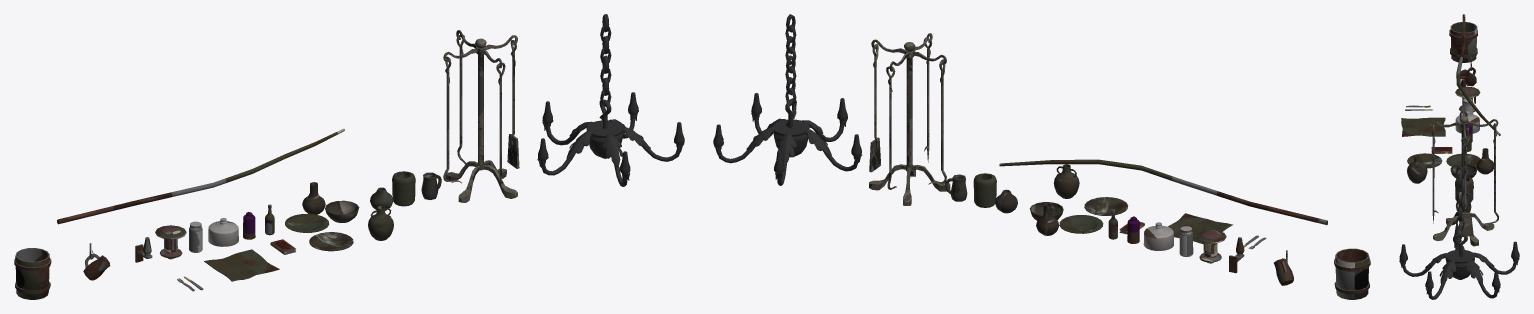
Rendered from utensilios.glb.
3 views of the same model, side by side, from view 1: azimuth 30°, elevation 25°; view 2: azimuth 150°, elevation 25°; view 3: azimuth 270°, elevation 25° (orthographic). The views are drawn at different scales.
Parts seen in each view (by area): view 1: Chandelier, pCylinder162, pCylinder144, pCube748, pCube747, pCylinder136, polySurface64, pCylinder137, pCylinder132, pCylinder85, pCylinder139, pCylinder133 (+3 smaller); view 2: Chandelier, pCylinder162, pCube748, pCylinder144, pCube747, pCylinder136, polySurface64, pCylinder85, pCylinder132, pCylinder139, pCylinder137, pCylinder135 (+1 smaller); view 3: Chandelier, pCylinder162, pCylinder144, pCube747, pCube748, pCylinder139, pCylinder137, pCylinder135, pCylinder132, pCube746, polySurface64, pCylinder85 (+6 smaller).
Part boxes in pixels (left/top/right/bottom): Chandelier: left=537, top=14, right=684, bottom=186; pCylinder162: left=443, top=30, right=519, bottom=202; pCylinder144: left=14, top=248, right=51, bottom=299; pCube748: left=57, top=128, right=344, bottom=224; pCube747: left=204, top=249, right=279, bottom=281; pCylinder136: left=392, top=171, right=415, bottom=206; polySurface64: left=208, top=218, right=238, bottom=246; pCylinder137: left=309, top=232, right=353, bottom=251; pCylinder132: left=285, top=213, right=329, bottom=232; pCylinder85: left=155, top=225, right=186, bottom=259; pCylinder139: left=368, top=206, right=393, bottom=240; pCylinder133: left=325, top=200, right=359, bottom=222; Chandelier: left=713, top=14, right=862, bottom=185; pCylinder162: left=869, top=33, right=950, bottom=205; pCube748: left=999, top=159, right=1327, bottom=225; pCylinder144: left=1334, top=248, right=1370, bottom=299; pCube747: left=1168, top=213, right=1233, bottom=244; pCylinder136: left=973, top=173, right=996, bottom=207; polySurface64: left=1143, top=222, right=1173, bottom=250; pCylinder85: left=1195, top=229, right=1226, bottom=263; pCylinder132: left=1059, top=215, right=1103, bottom=233; pCylinder139: left=1053, top=164, right=1079, bottom=198; pCylinder137: left=1084, top=197, right=1128, bottom=215; pCylinder135: left=1036, top=203, right=1059, bottom=235; Chandelier: left=1399, top=165, right=1519, bottom=299; pCylinder162: left=1429, top=107, right=1498, bottom=246; pCylinder144: left=1449, top=22, right=1477, bottom=62; pCube747: left=1401, top=117, right=1445, bottom=136; pCube748: left=1456, top=14, right=1500, bottom=135; pCylinder139: left=1407, top=156, right=1427, bottom=183; pCylinder137: left=1407, top=153, right=1442, bottom=168; pCylinder135: left=1476, top=148, right=1493, bottom=174; pCylinder132: left=1446, top=153, right=1480, bottom=166; pCube746: left=1460, top=56, right=1476, bottom=86; polySurface64: left=1455, top=111, right=1479, bottom=133; pCylinder85: left=1455, top=86, right=1480, bottom=111.
Bounding box in the file's own units: 9.73 × 2.15 × 1.99.
Materials: 2 (2 with a texture image).
